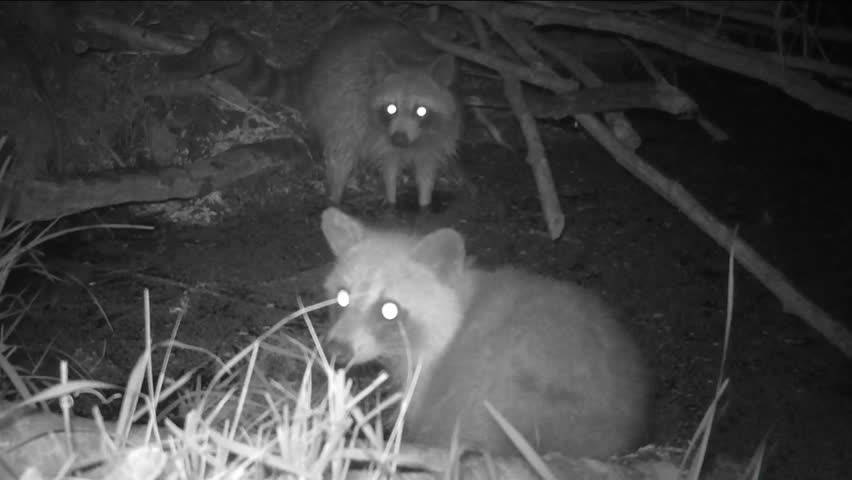raccoon: (301, 183, 660, 469), (291, 14, 473, 204)
